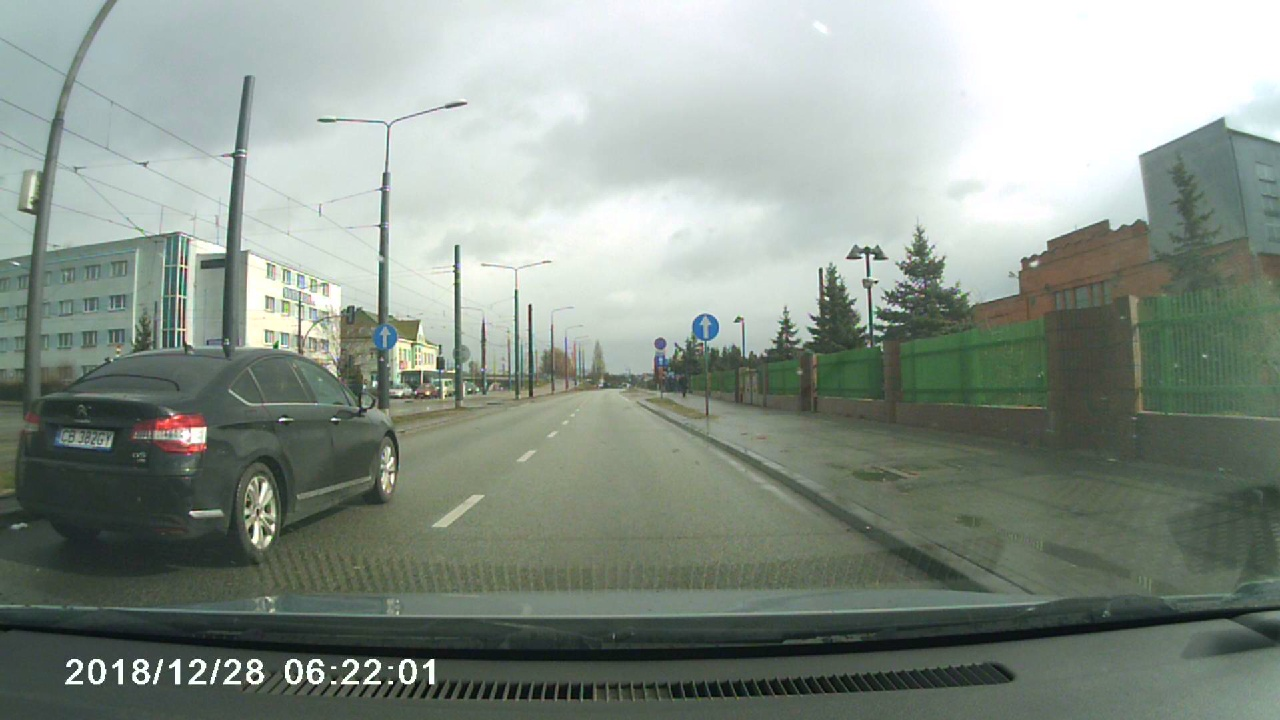C5: (689, 314, 723, 341), (371, 324, 397, 352)
